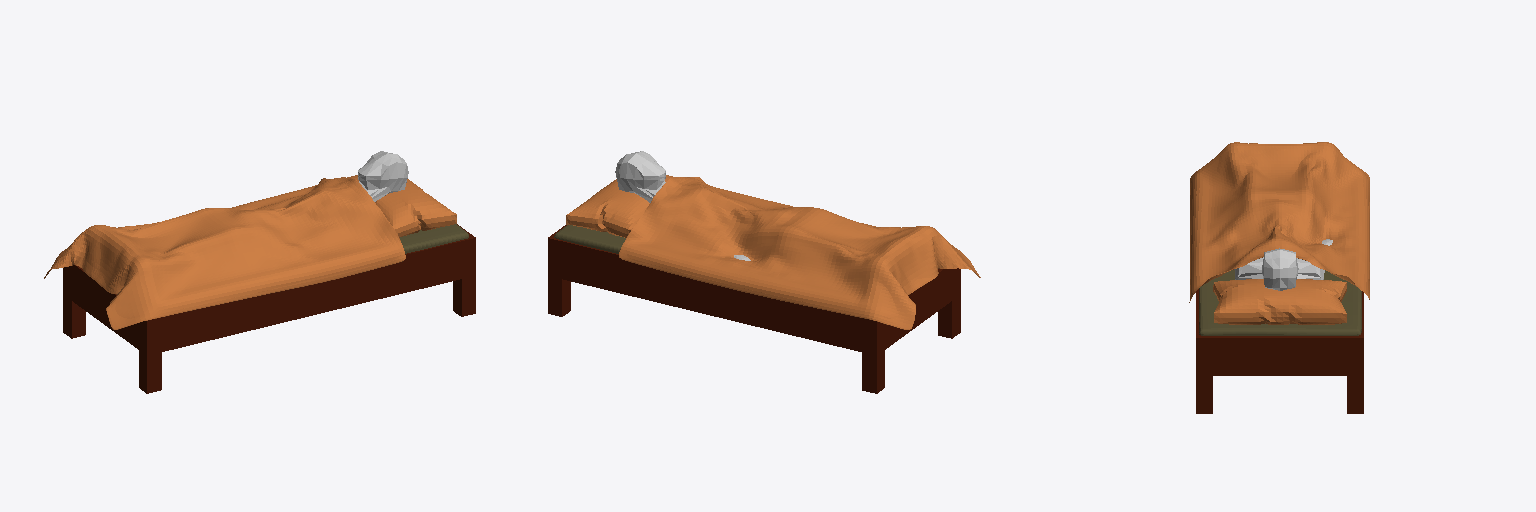
The model's file is human2bed.obj.
3 renders of one model, left to right at view 1: azimuth 30°, elevation 25°; view 2: azimuth 150°, elevation 25°; view 3: azimuth 270°, elevation 25°, orthographic.
Visible parts, largest first — view 1: Plane.001, Cube.002, Cube.006, Cube.001, Cube.005; view 2: Plane.001, Cube.002, Cube.006, Cube.001, Cube.005; view 3: Plane.001, Cube.002, Cube.006, Cube.005, Cube.001.
Part boxes in pixels (x1,y1,x2,y2): Plane.001: (44,177,405,329); Cube.002: (63,224,475,393); Cube.006: (347,175,456,237); Cube.001: (358,151,408,201); Cube.005: (400,224,468,253); Plane.001: (619,177,980,329); Cube.002: (548,225,960,393); Cube.006: (566,175,672,237); Cube.001: (615,151,750,260); Cube.005: (554,225,625,253); Plane.001: (1189,142,1369,302); Cube.002: (1196,289,1363,413); Cube.006: (1213,279,1346,324); Cube.005: (1199,270,1361,335); Cube.001: (1234,239,1332,290).
Bounding box in the file's own units: 2.46 × 0.9297 × 1.08.